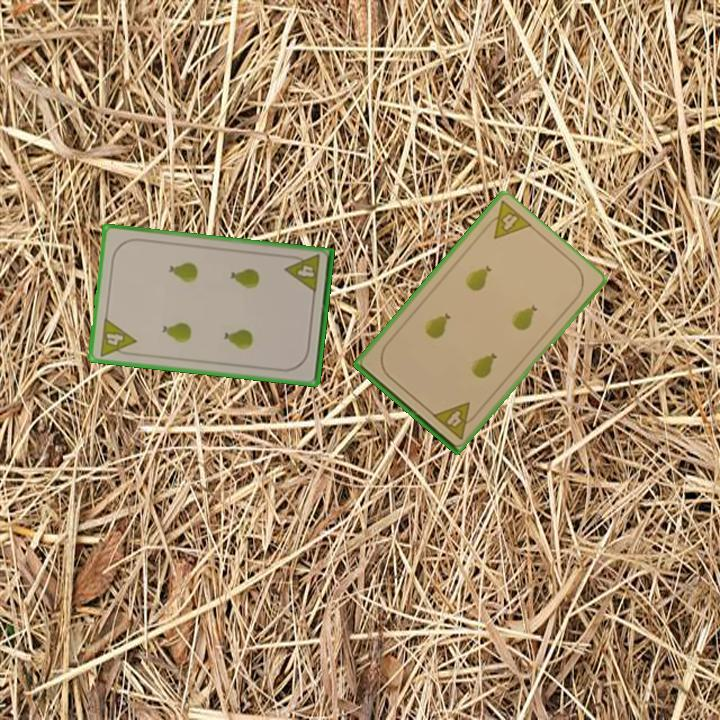4p: (479, 197, 535, 242), (429, 398, 482, 442), (96, 314, 139, 359), (282, 251, 323, 296)
